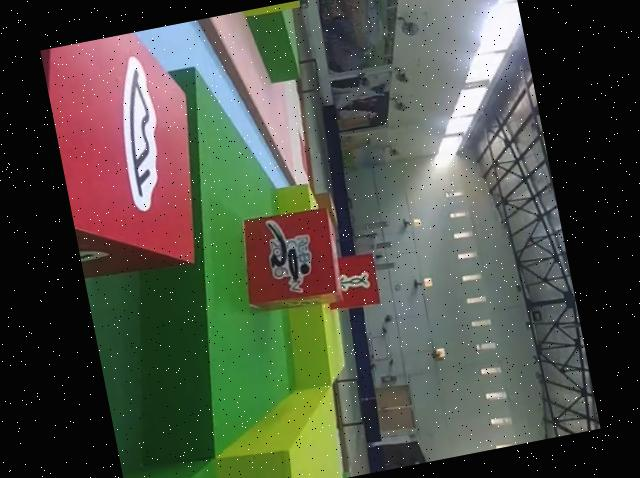R1: (231, 199, 351, 319)
R2 Real: (40, 24, 222, 286), (314, 246, 387, 316)
